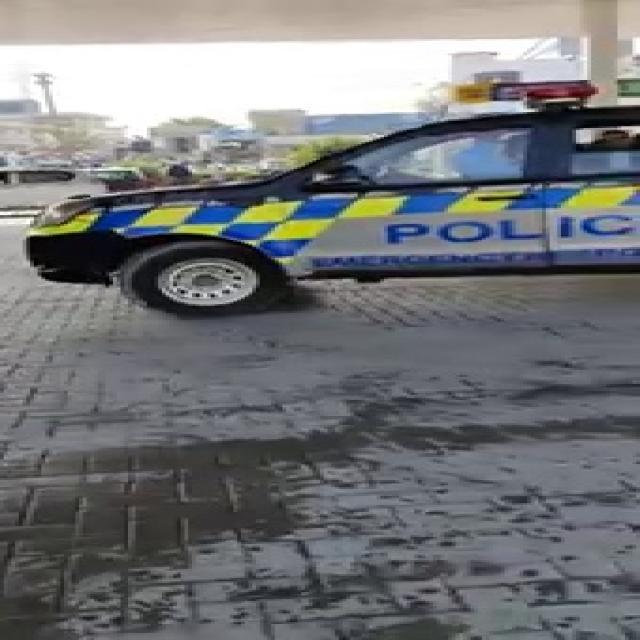police: (0, 74, 640, 318)
